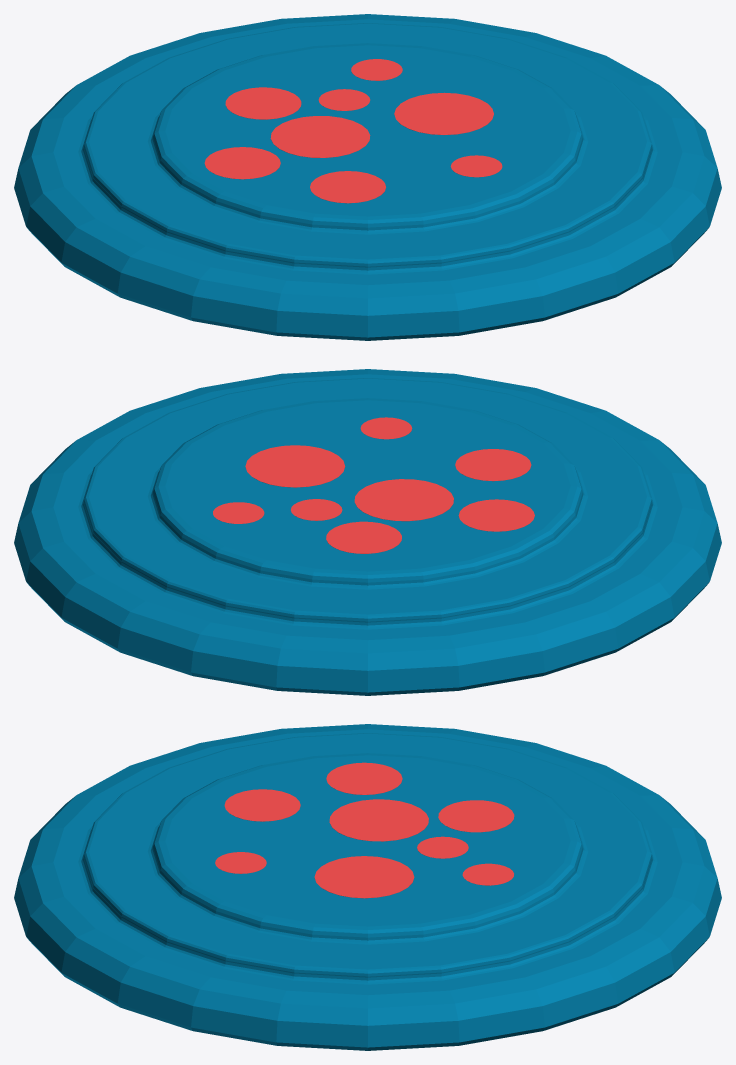
3 views of the same model, one above another, from view 1: azimuth 30°, elevation 25°; view 2: azimuth 150°, elevation 25°; view 3: azimuth 270°, elevation 25° (orthographic).
Parts seen in each view (by area): view 1: Cylinder001, Cylinder002, Cylinder007, Cylinder008, Cylinder003, Cylinder004, Cylinder005, Cylinder006, Cylinder009; view 2: Cylinder001, Cylinder002, Cylinder007, Cylinder003, Cylinder008, Cylinder004, Cylinder005, Cylinder006, Cylinder009; view 3: Cylinder001, Cylinder007, Cylinder002, Cylinder004, Cylinder008, Cylinder003, Cylinder009, Cylinder006, Cylinder005.
Boxes of the visible parts, <box> form: Cylinder001: <box>14,14,721,340</box>; Cylinder002: <box>394,92,493,135</box>; Cylinder007: <box>270,116,370,157</box>; Cylinder008: <box>225,87,301,119</box>; Cylinder003: <box>204,147,280,179</box>; Cylinder004: <box>310,171,385,203</box>; Cylinder005: <box>450,155,502,177</box>; Cylinder006: <box>351,59,402,80</box>; Cylinder009: <box>318,89,370,110</box>; Cylinder001: <box>14,369,721,695</box>; Cylinder002: <box>245,445,345,487</box>; Cylinder007: <box>354,479,453,521</box>; Cylinder003: <box>458,499,534,531</box>; Cylinder008: <box>326,521,401,553</box>; Cylinder004: <box>455,449,531,481</box>; Cylinder005: <box>360,417,412,439</box>; Cylinder006: <box>213,502,264,523</box>; Cylinder009: <box>291,499,342,520</box>; Cylinder001: <box>14,724,721,1050</box>; Cylinder007: <box>329,799,428,841</box>; Cylinder002: <box>314,856,414,898</box>; Cylinder004: <box>224,789,300,821</box>; Cylinder008: <box>438,800,514,832</box>; Cylinder003: <box>326,762,402,794</box>; Cylinder009: <box>417,836,468,858</box>; Cylinder006: <box>462,863,513,885</box>; Cylinder005: <box>215,852,266,873</box>.
Size of the model in its own units: 661284 by 73196 by 661284.
